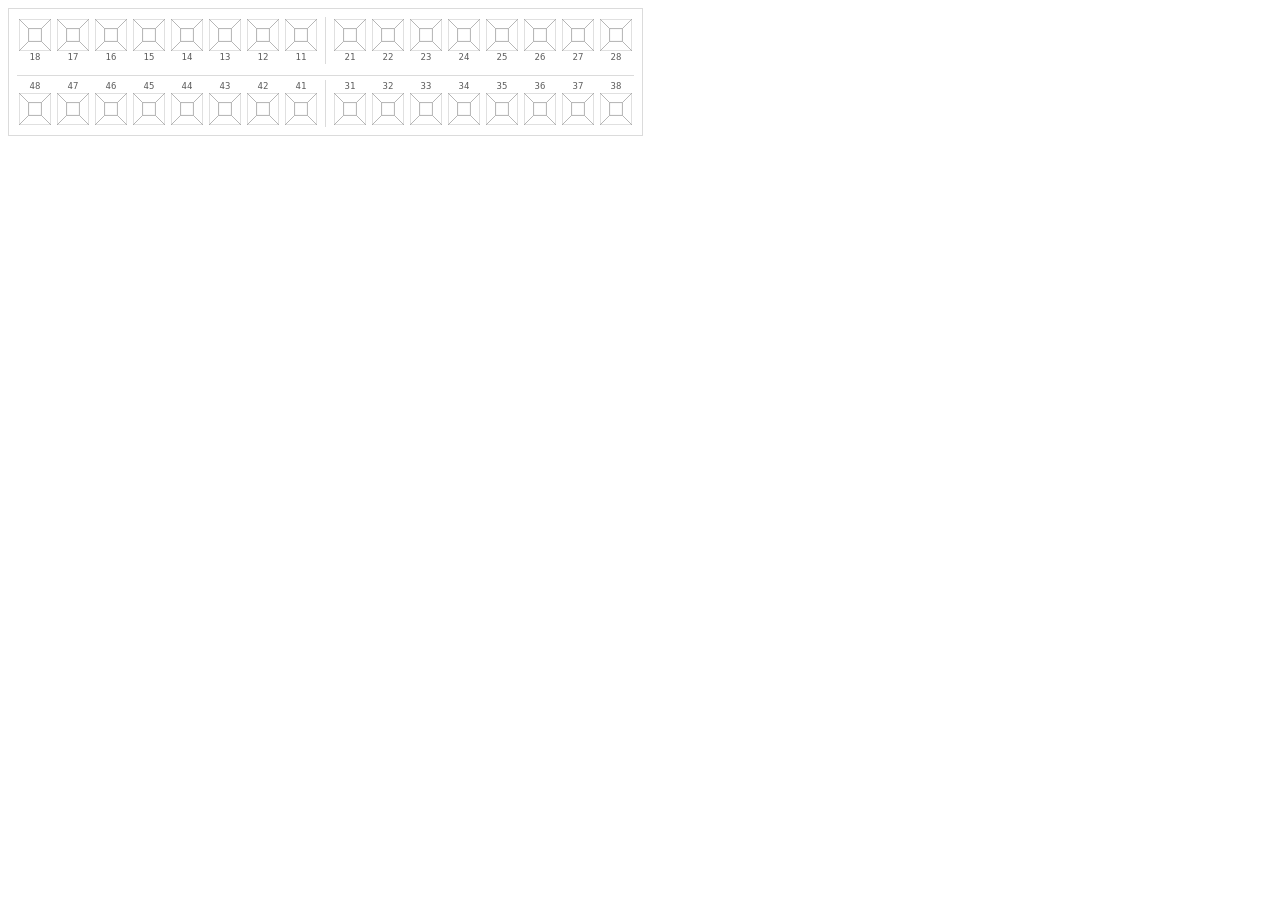
Odontogram — notas › clicking Nota opens the note popover
Step 1. Click the button "11" → x=301, y=40, box [283, 17, 319, 64]
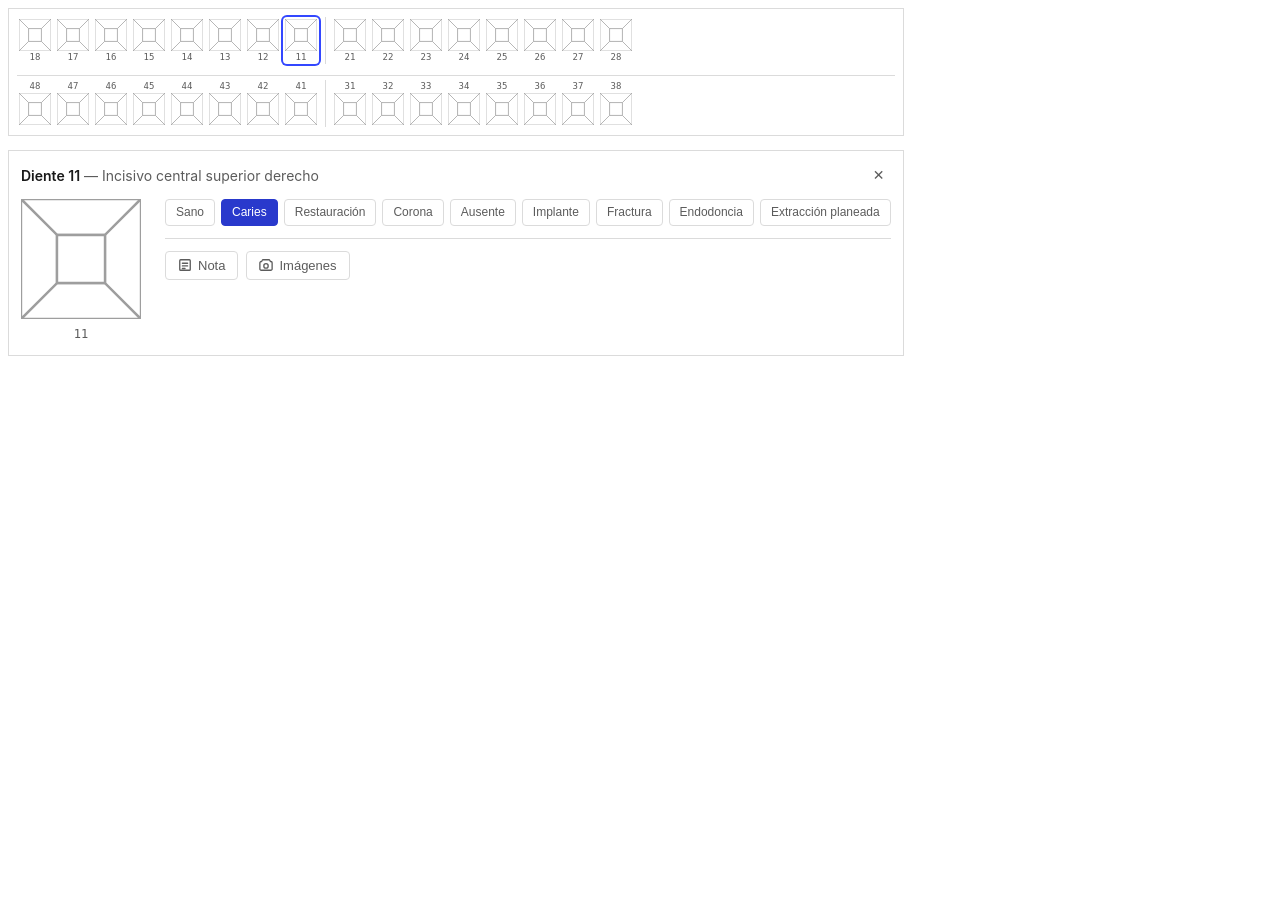
Step 2. Click the button with aria-label "Nota del diente 11" → x=202, y=265, box [165, 251, 238, 280]
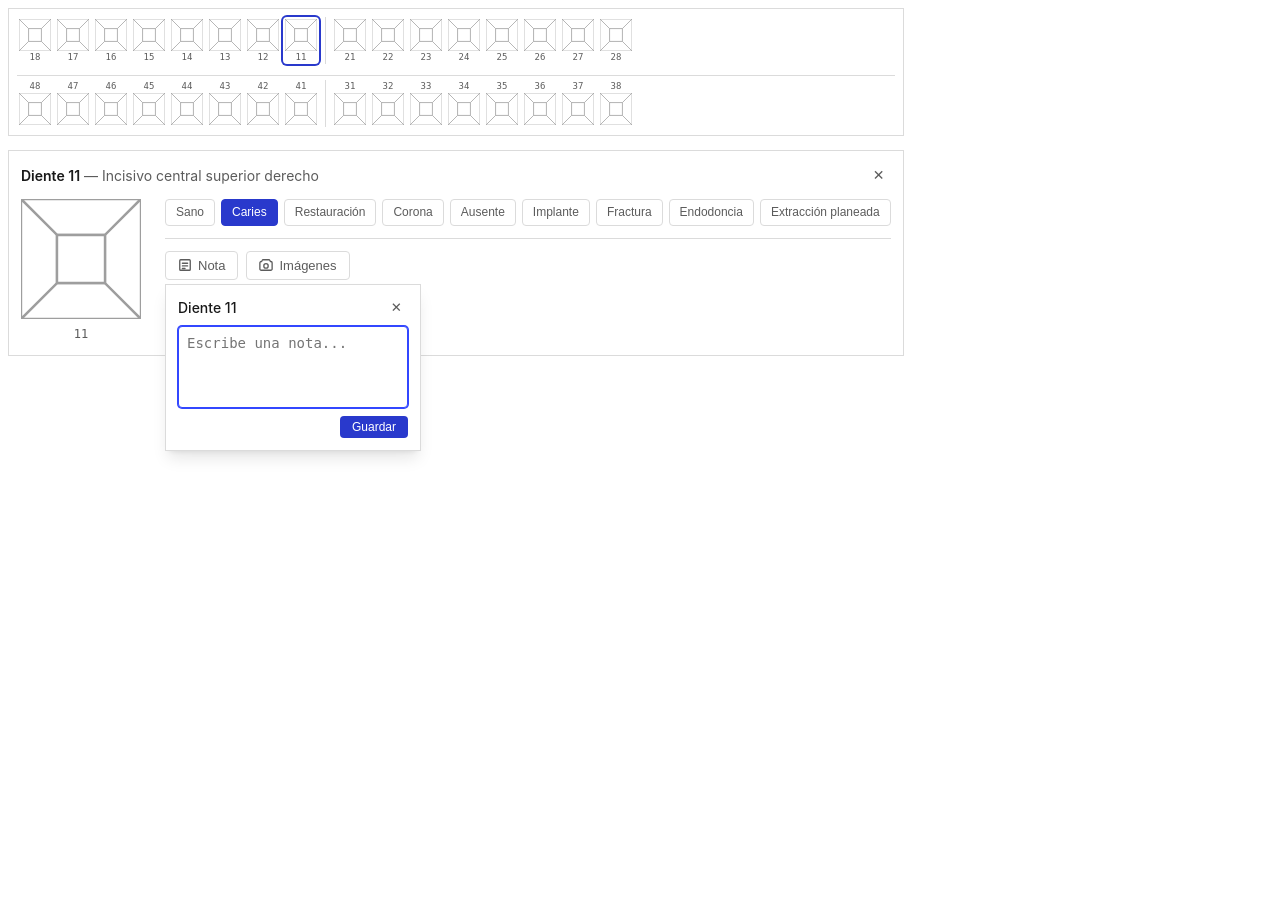
Expected: the dialog named "Nota del diente 11" is shown, [165, 284, 421, 451]
Expected: the text box is shown, [178, 326, 408, 408]
